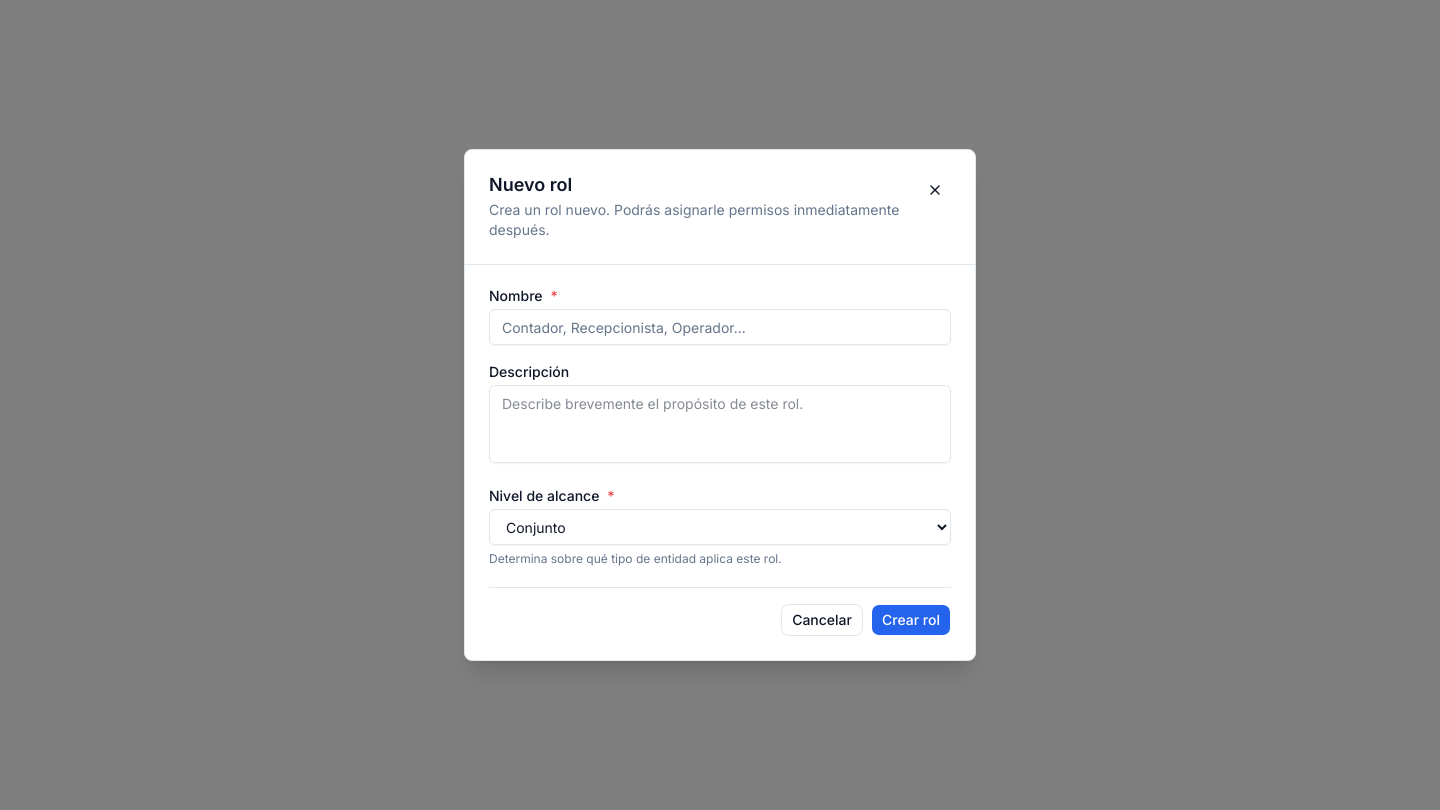
Test case: RoleForm › valida nombre vacío al enviar
Click the button "Crear rol" at (911, 620), box x1=871 y1=604 x2=951 y2=636
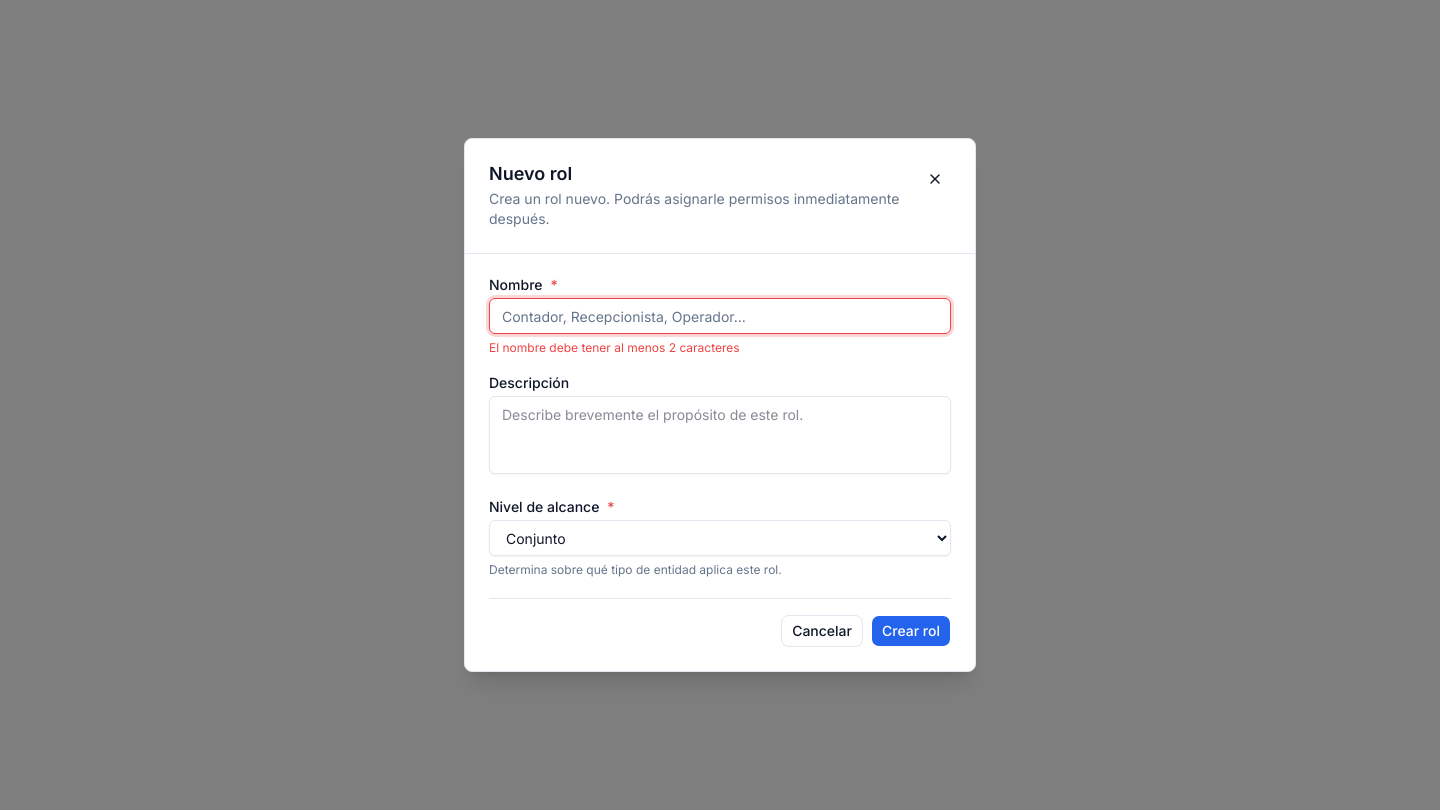
Check: the text "El nombre debe tener al menos 2 caracteres" is shown, box x1=489 y1=340 x2=740 y2=355
